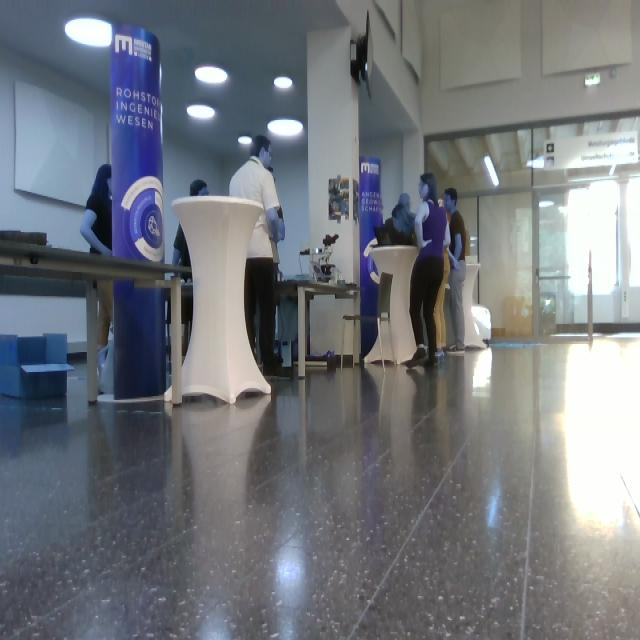door: (478, 190, 534, 340)
light bulb: (65, 16, 113, 49), (267, 118, 304, 137), (195, 65, 228, 85), (484, 154, 500, 188), (187, 104, 215, 120), (274, 76, 293, 89), (526, 156, 545, 169), (584, 73, 601, 86), (238, 136, 253, 145)
person: (229, 136, 286, 376), (402, 173, 452, 368), (80, 164, 114, 373), (171, 179, 210, 359), (443, 188, 467, 353)
pillar: (109, 25, 167, 400), (171, 194, 272, 405)
tiled floor: (1, 333, 639, 638)
